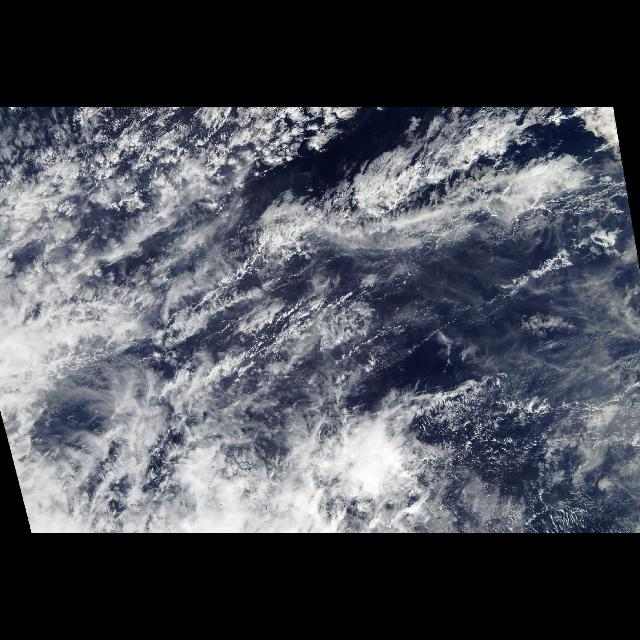Fish: (141, 115, 571, 328)
Gravel: (451, 292, 635, 530)
